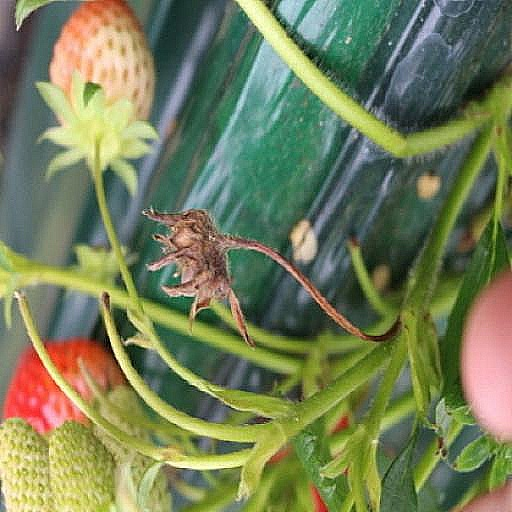Gray Mold: (224, 165, 372, 304)
